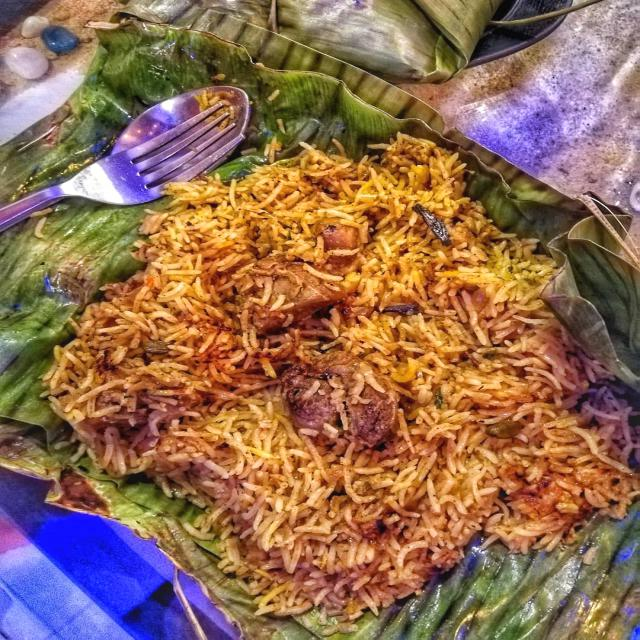biryani: (93, 101, 585, 610)
